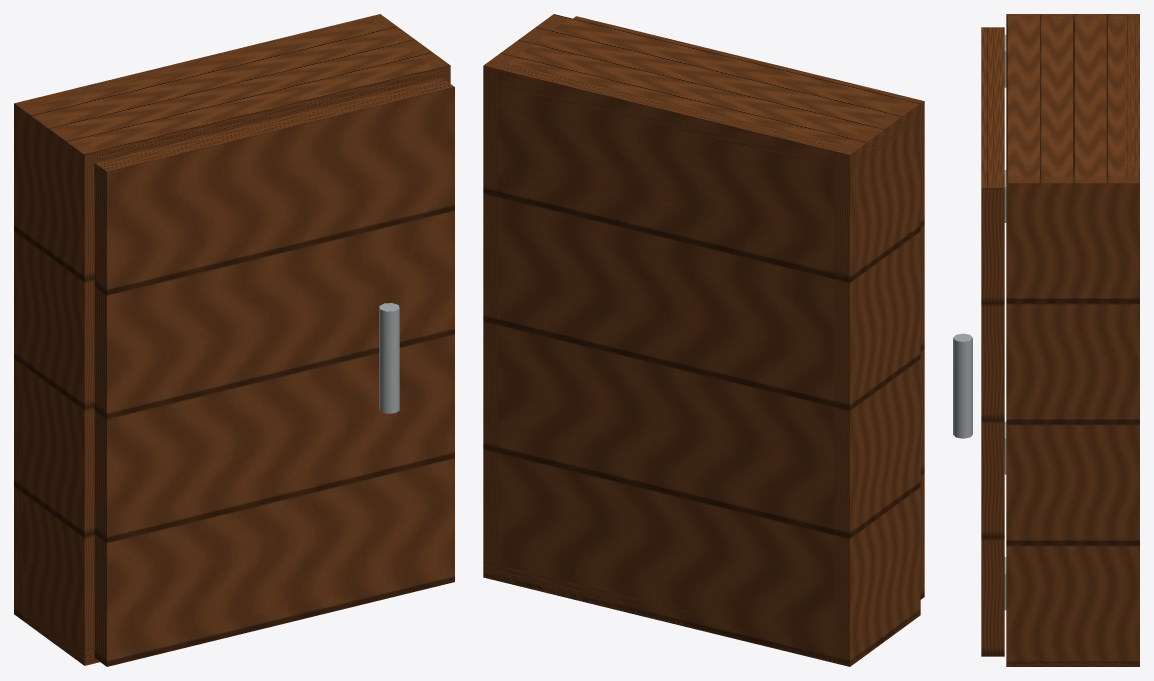
The model's file is suburban-outbreak-interiors-utility-meter-carcass-5ec4b1f5__19976.glb.
3 renders of one model, left to right at view 1: azimuth 30°, elevation 25°; view 2: azimuth 150°, elevation 25°; view 3: azimuth 270°, elevation 25°, orthographic. The views are drawn at different scales.
Visible parts, largest first — view 1: cabinet-door-0/wood, utility-meter-carcass; view 2: utility-meter-carcass, cabinet-door-0/wood; view 3: utility-meter-carcass, cabinet-door-0/wood.
Part boxes in pixels (x1=…): cabinet-door-0/wood: x1=94, y1=78, x2=454, y2=666; utility-meter-carcass: x1=14, y1=14, x2=450, y2=665; utility-meter-carcass: x1=483, y1=14, x2=920, y2=666; cabinet-door-0/wood: x1=573, y1=16, x2=924, y2=599; utility-meter-carcass: x1=953, y1=14, x2=1139, y2=666; cabinet-door-0/wood: x1=981, y1=27, x2=1004, y2=656.
Size of the model in its own units: 0.6 by 0.8 by 0.28.
2 materials, 1 textured.
